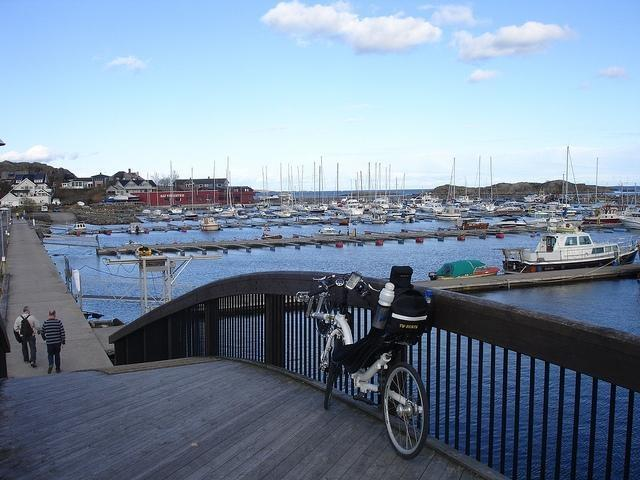bicycle: (302, 272, 430, 457)
